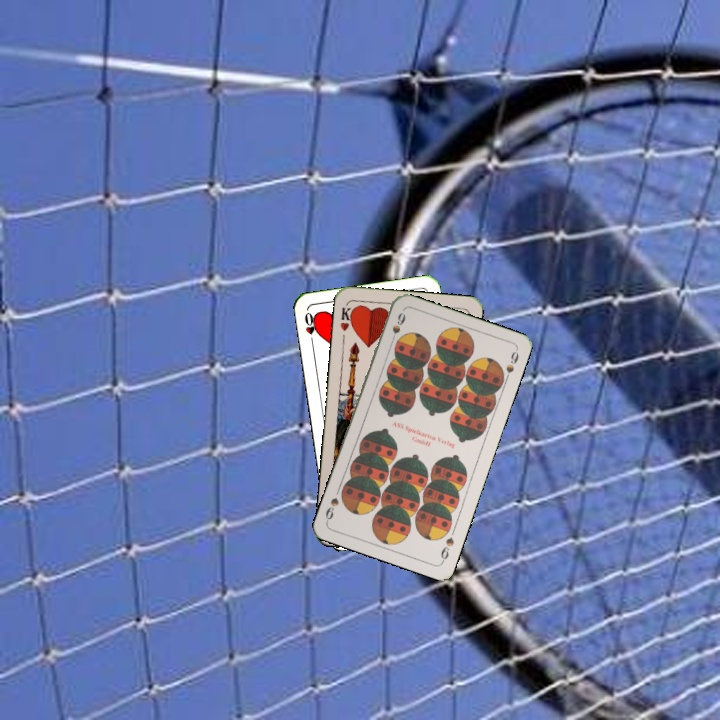HK: (336, 301, 357, 333)
HO: (300, 308, 320, 348)
S9: (386, 309, 408, 347), (437, 533, 457, 564)
